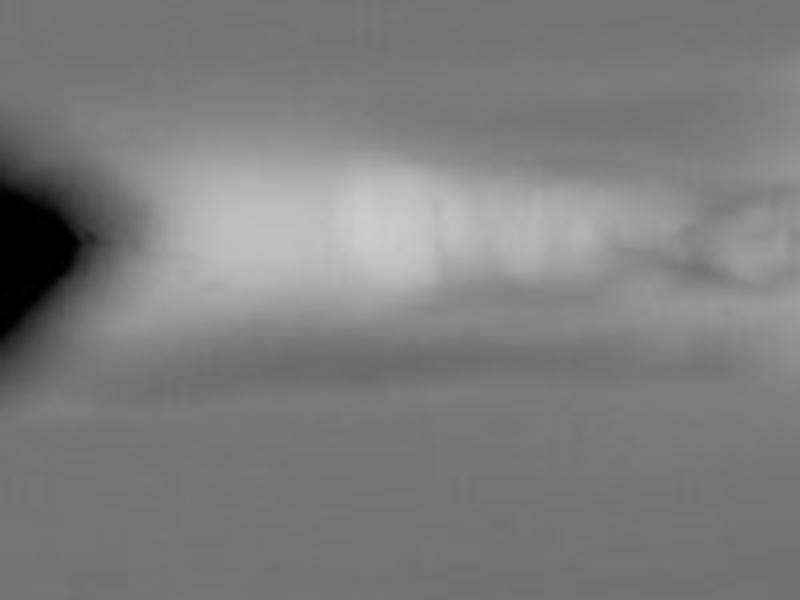defect: (1, 183, 75, 343)
